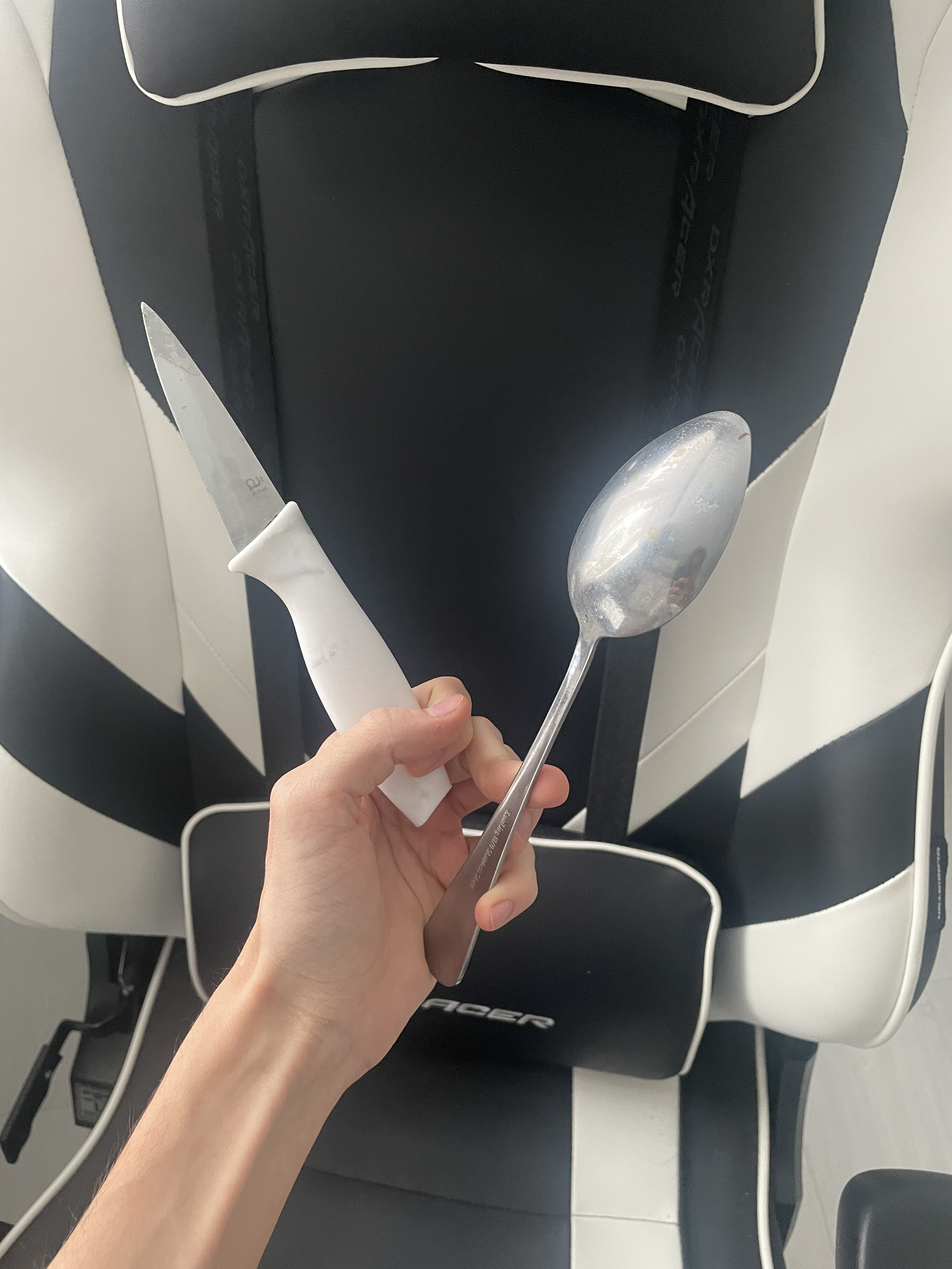knife: (141, 304, 452, 829)
spoon: (424, 411, 751, 986)
